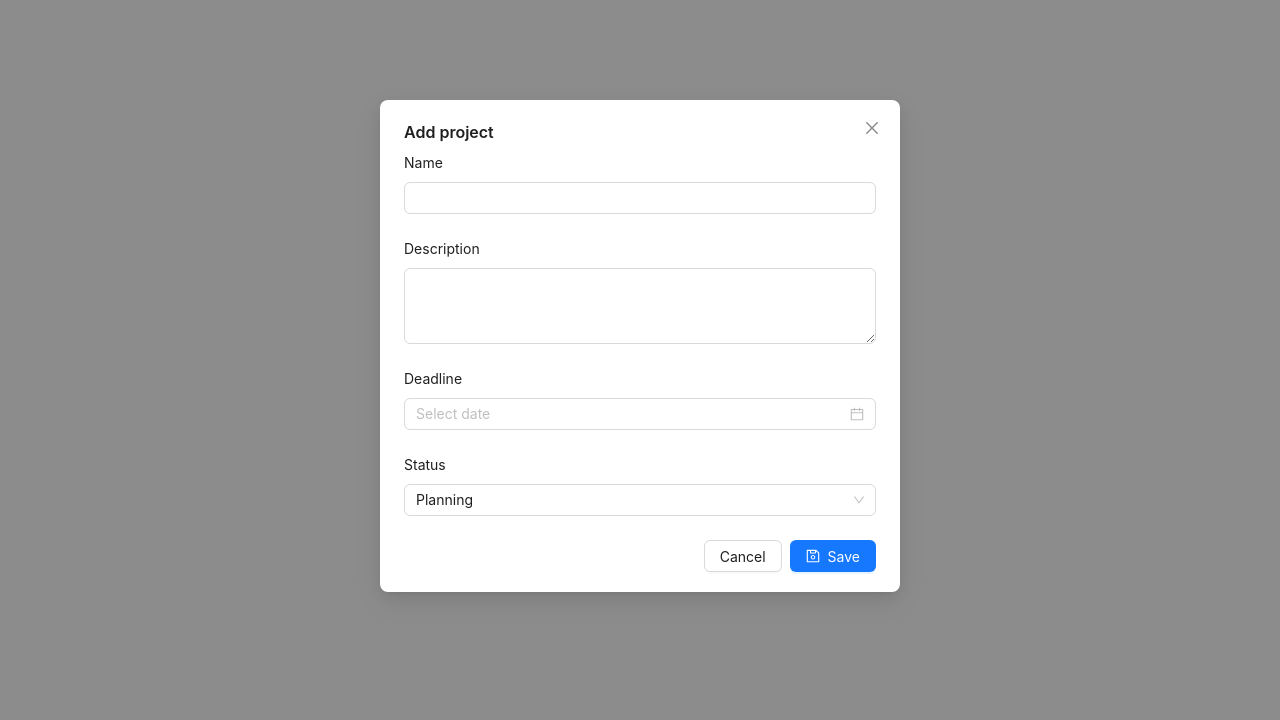
ProjectFormModal › surfaces a server-side field error on the field, not just the banner
Type "Website Revamp" into the field labelled "Name".
click(640, 198); type("Website Revamp")  # box x1=404 y1=182 x2=876 y2=214
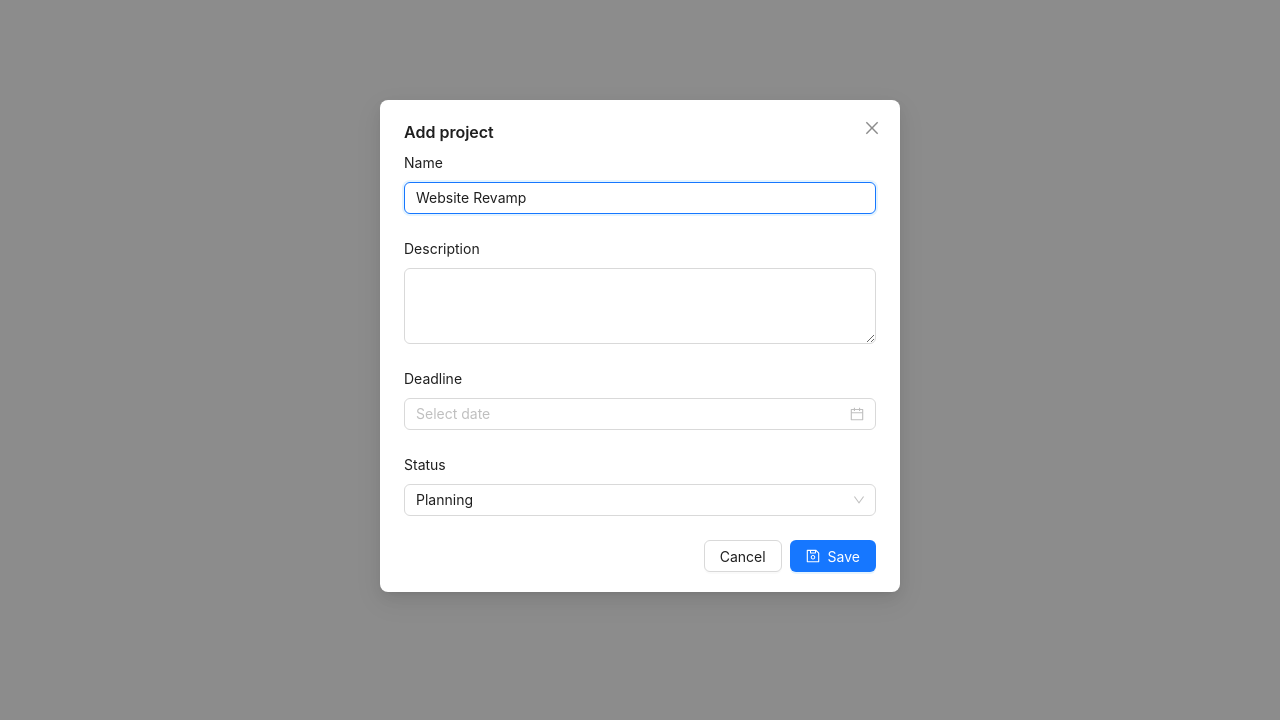
Type "Redesign the marketing site" into the text box labelled "Description".
click(640, 306); type("Redesign the marketing site")  # box x1=404 y1=268 x2=876 y2=344
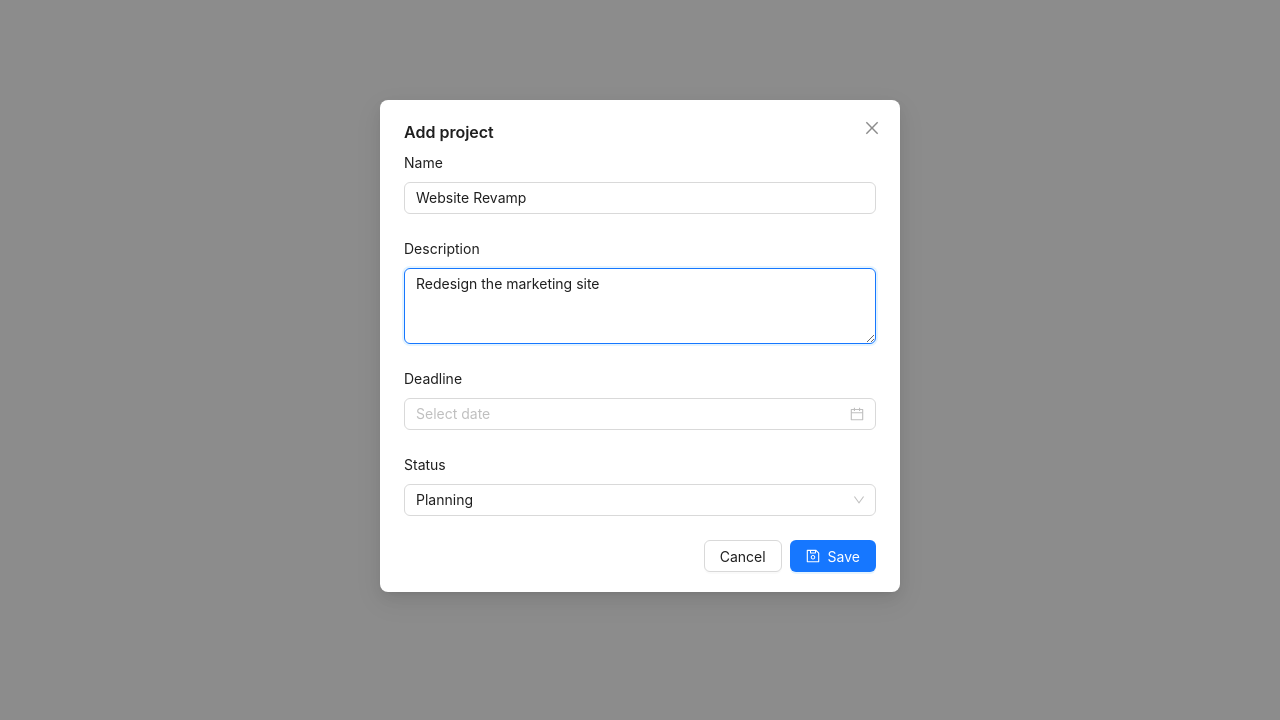
Type "2026-09-30" into the field labelled "Deadline".
click(631, 414); type("2026-09-30")  # box x1=416 y1=403 x2=846 y2=425
Then press Enter
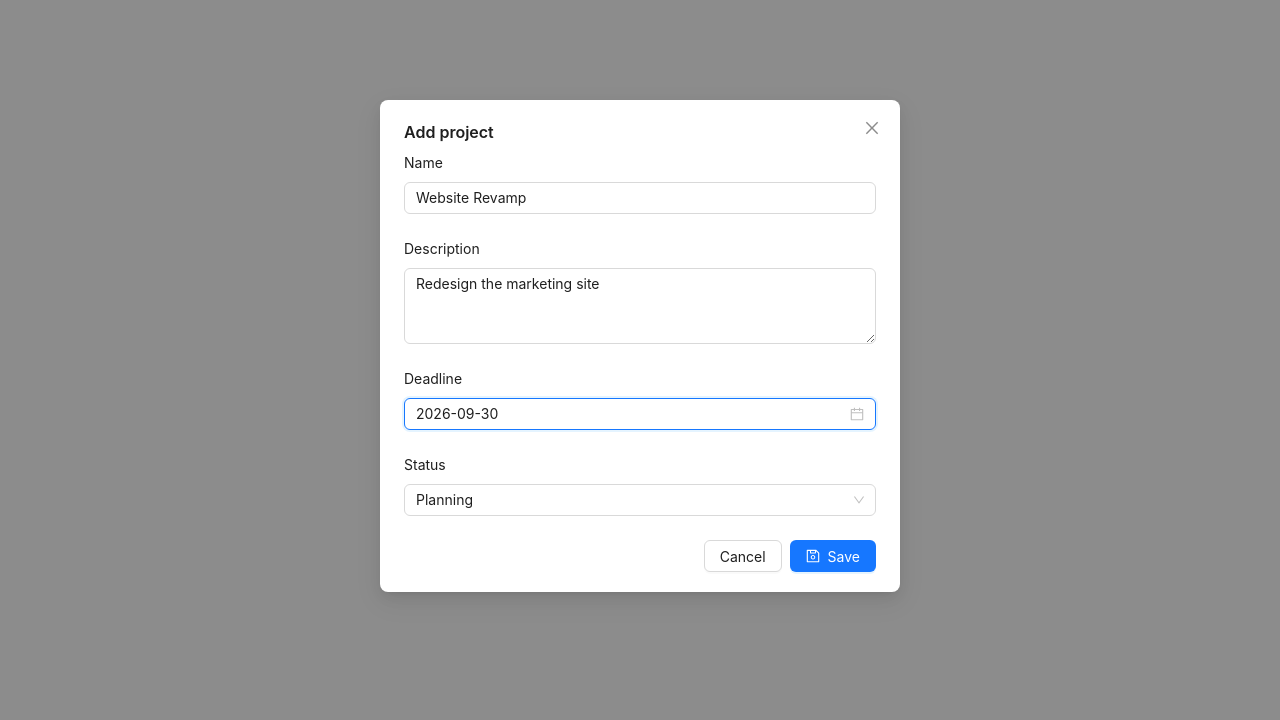
Click the button "Save".
click(833, 556)  # box x1=790 y1=540 x2=876 y2=572
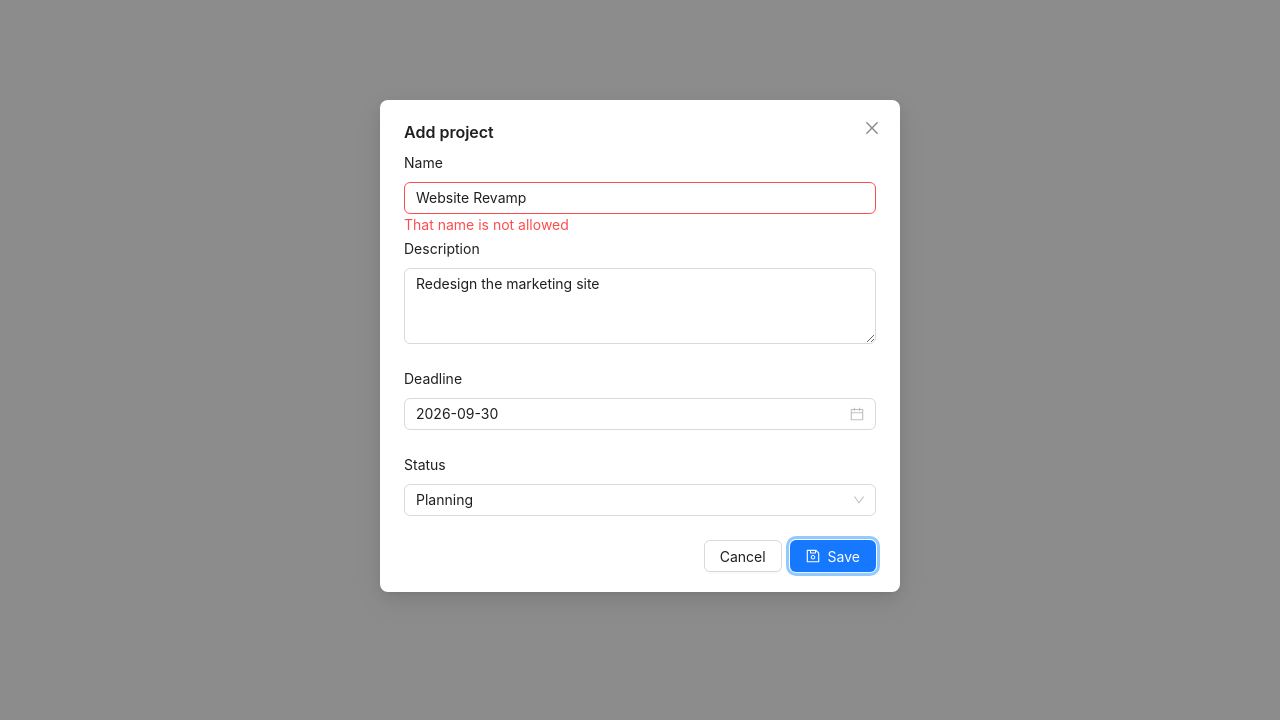
Now the text "That name is not allowed" is shown, box x1=404 y1=216 x2=569 y2=233
